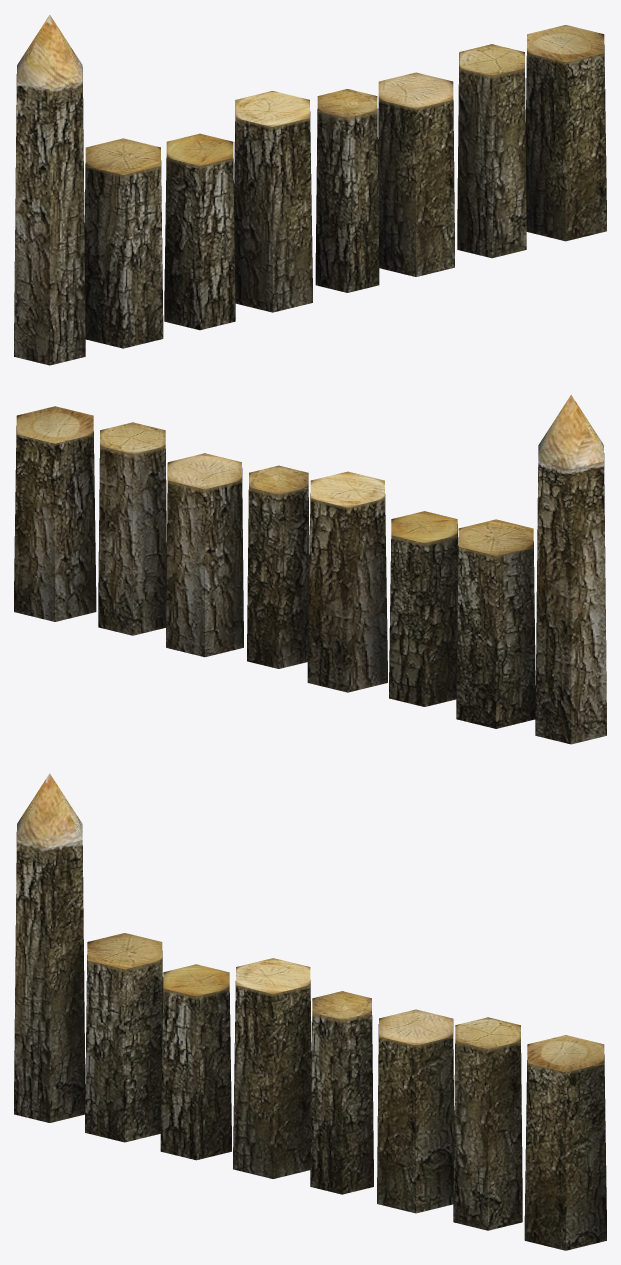
The model's file is Wooden_Wall_Fence_01_low_right.FBX.
The picture shows the model from 3 angles, top to bottom: view 1: azimuth 30°, elevation 25°; view 2: azimuth 150°, elevation 25°; view 3: azimuth 330°, elevation 25°; orthographic projection.
Visible parts, largest first — view 1: Wooden_Wall_Fence_01_low_right; view 2: Wooden_Wall_Fence_01_low_right; view 3: Wooden_Wall_Fence_01_low_right.
Part boxes in pixels (bbox=[...]): Wooden_Wall_Fence_01_low_right: bbox=[14, 15, 606, 365]; Wooden_Wall_Fence_01_low_right: bbox=[14, 395, 606, 744]; Wooden_Wall_Fence_01_low_right: bbox=[14, 773, 606, 1250].
Size of the model in its own units: 22.15 by 11.89 by 2.66.
1 material, 1 textured.
